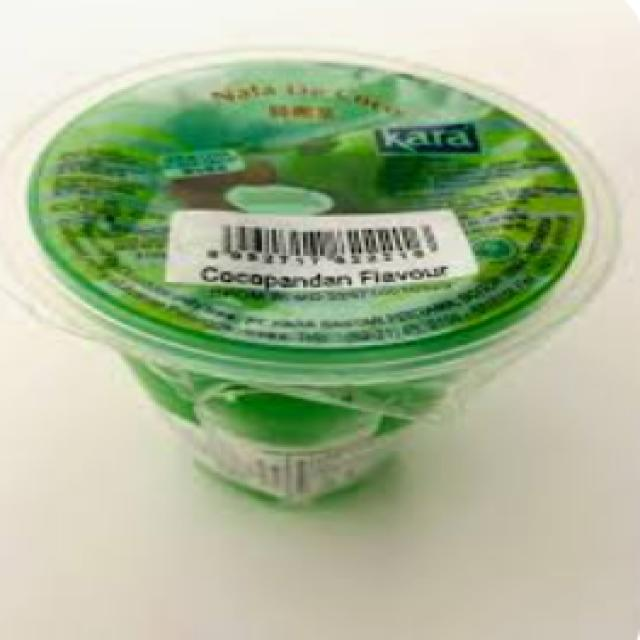GelasPlastik: (0, 42, 623, 504)
